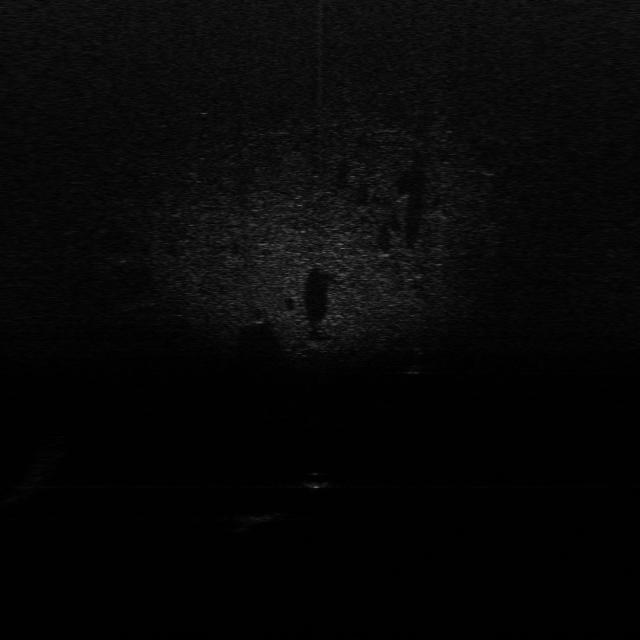ball: (298, 469, 331, 490)
square cage: (238, 506, 283, 526)
tyre: (406, 343, 436, 376)
